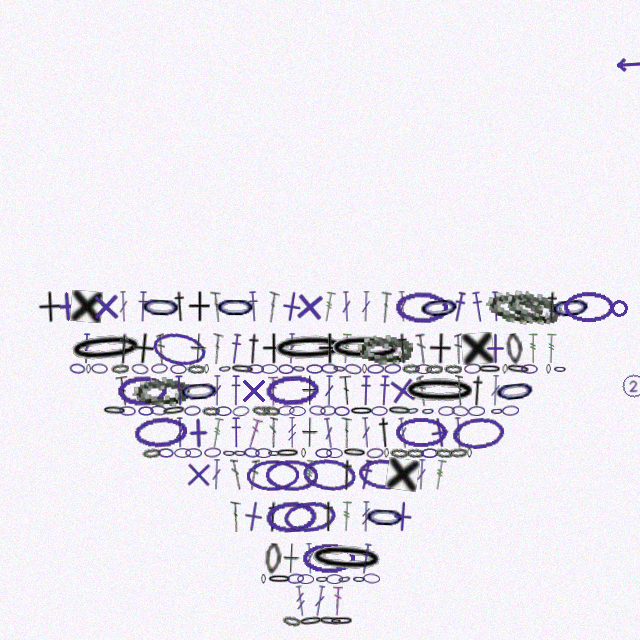chain: (66, 330, 146, 367), (307, 541, 386, 576), (502, 285, 564, 328), (270, 332, 349, 365), (401, 375, 479, 407), (484, 287, 545, 327), (327, 333, 405, 364), (150, 329, 209, 369), (301, 456, 357, 493), (282, 499, 337, 535), (132, 374, 190, 408), (451, 415, 505, 451), (357, 457, 412, 492), (133, 415, 188, 450), (356, 333, 413, 365), (265, 374, 319, 407), (265, 500, 318, 533), (246, 459, 300, 491), (265, 459, 318, 491), (395, 291, 448, 323), (302, 543, 355, 574), (395, 417, 448, 448), (117, 375, 168, 407), (563, 291, 615, 322), (492, 373, 538, 408), (417, 290, 462, 324), (548, 290, 593, 324), (363, 500, 407, 533), (177, 374, 221, 407), (139, 290, 183, 323), (214, 291, 257, 322), (505, 333, 524, 365), (264, 543, 282, 575), (161, 404, 187, 417), (298, 615, 324, 627), (505, 363, 531, 375), (318, 615, 343, 627), (230, 363, 255, 375), (342, 447, 367, 458), (102, 405, 127, 416), (387, 405, 412, 416), (329, 616, 354, 626), (267, 574, 292, 584), (275, 448, 300, 458), (349, 406, 374, 416), (477, 364, 502, 374), (282, 615, 301, 627), (142, 447, 161, 459), (366, 447, 384, 459), (232, 405, 250, 417), (451, 405, 469, 417), (131, 363, 149, 375), (344, 363, 362, 375), (449, 447, 467, 458), (252, 405, 270, 416), (262, 405, 280, 416), (277, 405, 295, 416), (111, 363, 129, 374), (402, 363, 420, 374), (287, 573, 304, 584), (363, 573, 380, 584), (204, 447, 221, 458), (150, 405, 167, 416), (184, 405, 201, 416), (309, 405, 326, 416), (502, 405, 519, 416), (69, 363, 86, 374), (91, 363, 108, 374), (151, 363, 168, 374), (321, 363, 338, 374), (384, 363, 401, 374), (464, 363, 481, 374), (337, 573, 352, 585), (390, 448, 408, 458), (406, 448, 424, 458), (435, 448, 453, 458), (202, 406, 220, 416), (187, 364, 205, 374), (425, 364, 443, 374), (444, 364, 462, 374), (244, 447, 260, 458), (320, 405, 336, 416), (297, 574, 314, 584), (326, 574, 343, 584), (174, 448, 191, 458), (185, 448, 202, 458), (255, 448, 272, 458), (315, 448, 332, 458), (326, 448, 343, 458), (421, 448, 438, 458), (119, 406, 136, 416), (215, 406, 232, 416), (289, 406, 306, 416), (371, 406, 388, 416), (438, 406, 455, 416), (468, 406, 485, 416), (170, 364, 187, 374), (247, 364, 264, 374), (261, 364, 278, 374), (306, 364, 323, 374), (367, 364, 384, 374), (415, 364, 432, 374), (521, 364, 538, 374), (405, 405, 420, 416), (332, 363, 347, 374), (158, 448, 174, 458), (138, 406, 154, 416), (334, 406, 350, 416), (278, 364, 294, 374), (218, 363, 232, 374), (292, 363, 306, 374), (315, 574, 329, 584), (352, 574, 366, 584), (222, 448, 236, 458), (233, 448, 247, 458), (267, 448, 281, 458), (421, 406, 435, 416), (490, 406, 504, 416), (553, 364, 567, 374), (502, 364, 508, 374), (261, 574, 266, 584), (301, 448, 306, 458), (384, 448, 389, 458), (467, 448, 472, 458), (86, 364, 91, 374), (204, 364, 209, 374), (362, 364, 367, 374), (546, 364, 551, 374)
double: (245, 417, 263, 449), (115, 375, 132, 407), (312, 585, 327, 617), (265, 291, 280, 323), (339, 375, 354, 406), (322, 417, 336, 449), (396, 417, 410, 449), (415, 333, 429, 365), (378, 291, 392, 323), (210, 333, 224, 364), (210, 291, 223, 322), (230, 459, 242, 490), (248, 459, 260, 490), (360, 417, 372, 448), (416, 375, 428, 406), (332, 585, 343, 616), (304, 543, 315, 574), (230, 501, 241, 532), (211, 459, 222, 490), (416, 459, 427, 490), (341, 417, 352, 448), (453, 417, 464, 448), (490, 375, 501, 406), (81, 333, 92, 364), (286, 333, 297, 364), (118, 291, 129, 322), (341, 291, 352, 322), (397, 291, 408, 322), (490, 291, 501, 322), (175, 417, 185, 448), (268, 417, 278, 448), (212, 375, 222, 406), (268, 375, 278, 406), (324, 375, 334, 406), (156, 333, 166, 364), (361, 291, 371, 322), (454, 333, 463, 364), (455, 375, 463, 406)
half_double: (467, 375, 488, 407), (243, 333, 264, 365), (263, 501, 283, 533), (337, 459, 357, 491), (114, 333, 134, 365), (542, 291, 562, 323), (319, 501, 338, 532), (375, 417, 394, 448), (357, 459, 375, 491), (450, 291, 468, 323), (394, 333, 412, 364), (171, 291, 189, 322), (358, 543, 374, 575), (470, 291, 486, 323), (228, 333, 243, 365), (173, 375, 186, 406), (378, 375, 391, 406), (247, 291, 260, 322), (230, 417, 242, 448), (230, 375, 242, 406), (360, 375, 372, 406), (137, 291, 149, 322)
noise: (620, 372, 640, 400), (609, 298, 630, 319), (614, 57, 640, 72)
single: (236, 499, 271, 534), (385, 457, 420, 492), (422, 415, 457, 450), (385, 373, 420, 408), (274, 289, 309, 324), (386, 500, 419, 533), (461, 332, 494, 365), (51, 290, 84, 323), (70, 290, 103, 323), (293, 290, 326, 323), (183, 417, 214, 449), (183, 459, 214, 490), (238, 375, 269, 406), (480, 333, 511, 364), (90, 291, 121, 322), (130, 332, 156, 365), (37, 291, 62, 323), (261, 333, 285, 364), (317, 333, 341, 364), (428, 333, 452, 364), (187, 291, 211, 322), (283, 543, 300, 574), (190, 333, 207, 364), (302, 417, 318, 448), (302, 375, 318, 406)
treble: (209, 417, 225, 449), (321, 291, 337, 323), (302, 459, 317, 491), (432, 459, 447, 491), (294, 585, 307, 617), (340, 333, 353, 364), (341, 501, 352, 532), (546, 333, 557, 364), (361, 501, 371, 532), (287, 417, 297, 448), (528, 333, 538, 364)
